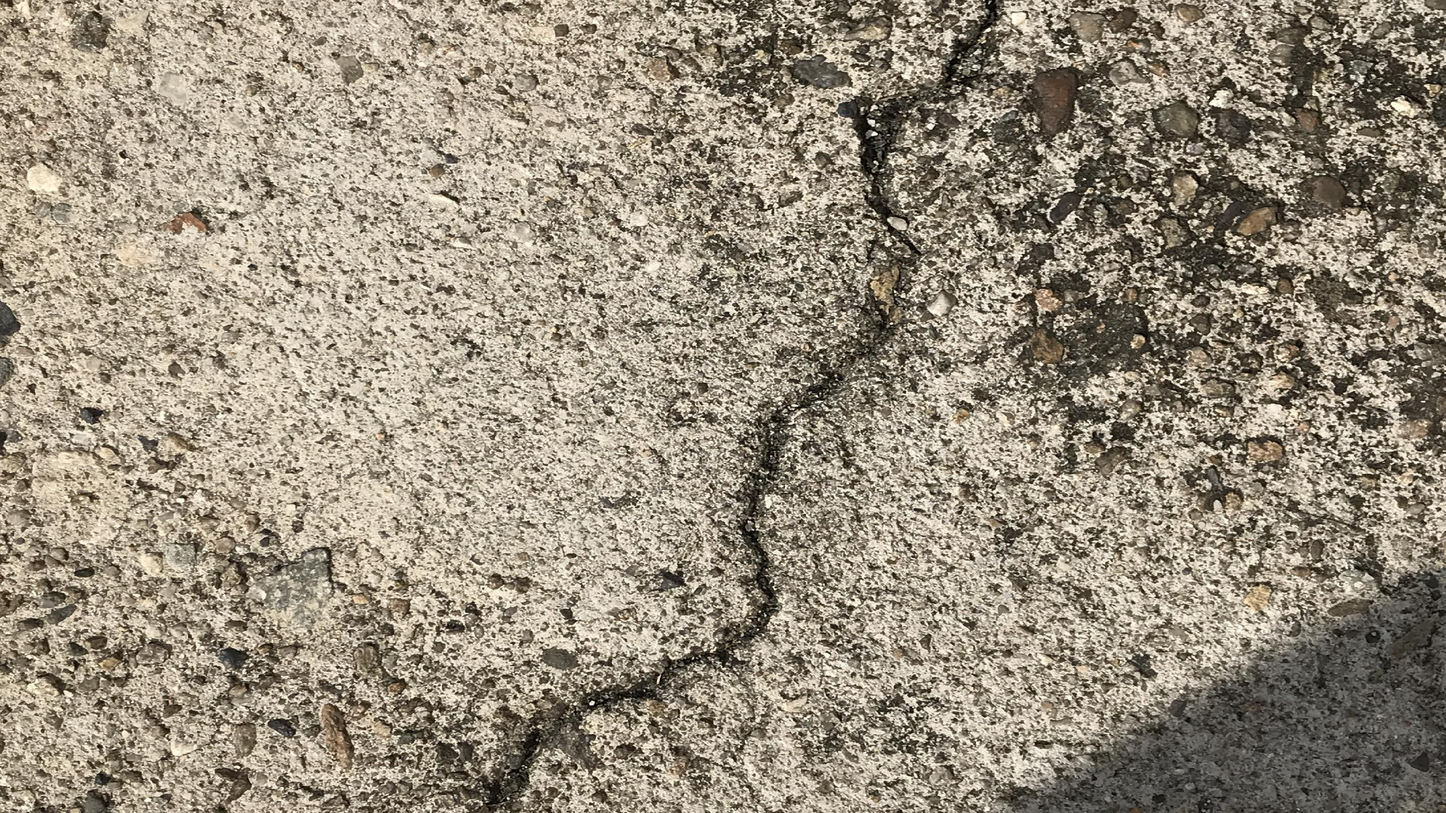crack: (497, 3, 1001, 806)
